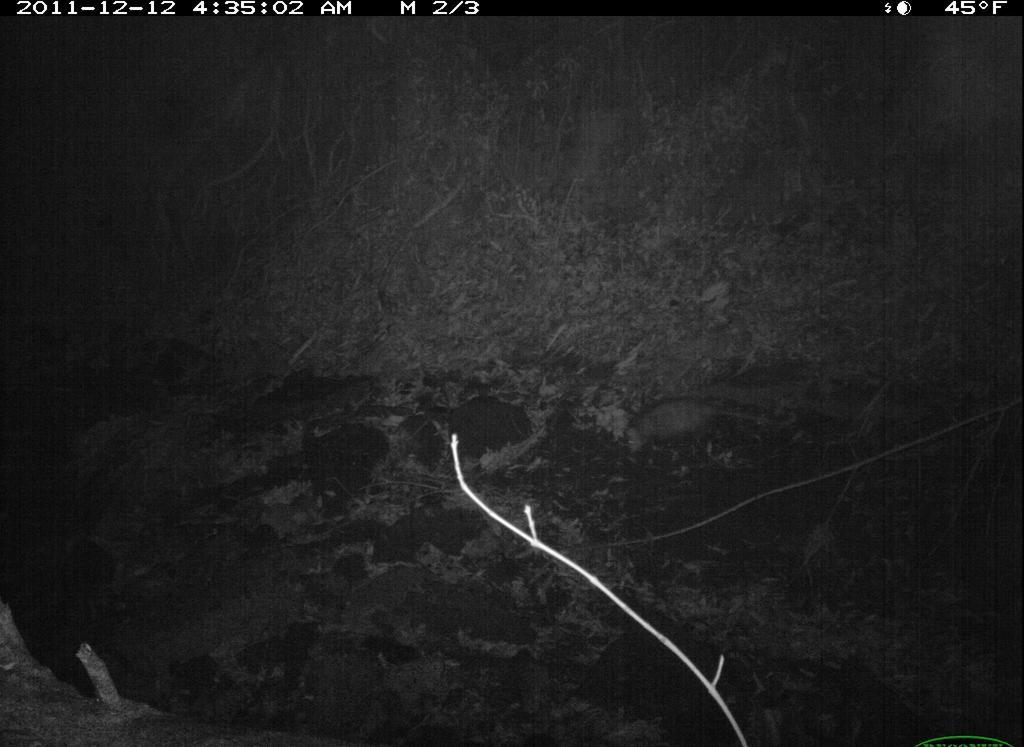opossum: (614, 392, 780, 460)
